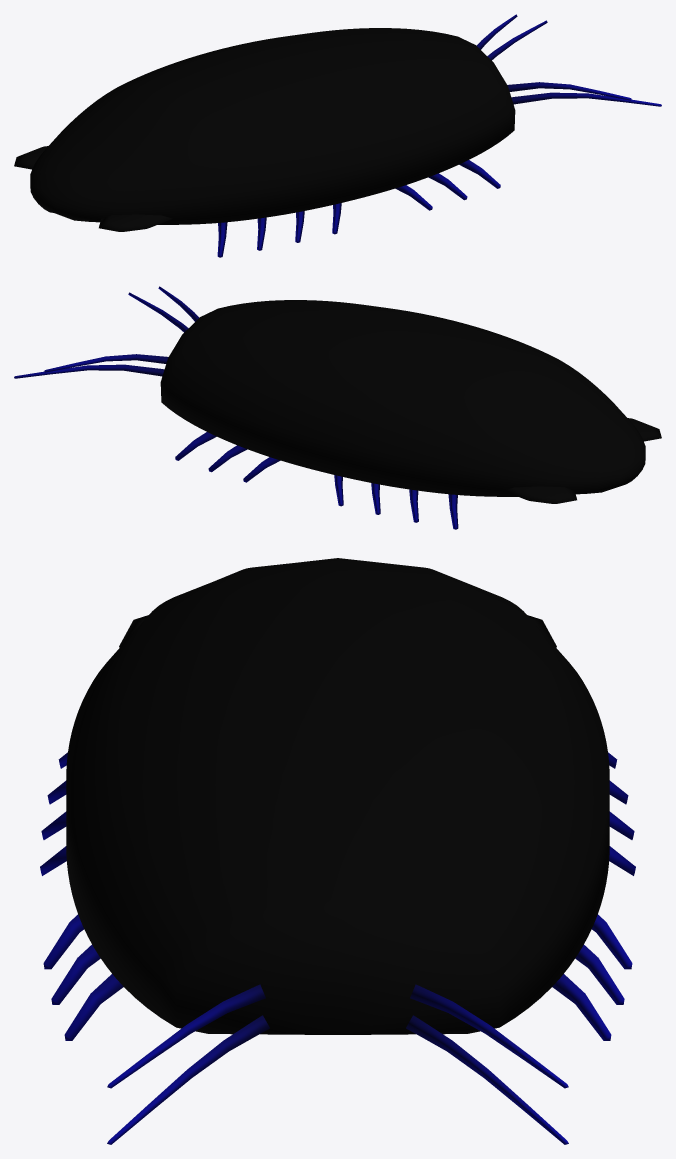
The model's file is micro_isopod.glb.
The picture shows the model from 3 angles, top to bottom: view 1: azimuth 30°, elevation 25°; view 2: azimuth 150°, elevation 25°; view 3: azimuth 270°, elevation 25°; orthographic projection. The views are drawn at different scales.
Visible parts, largest first — view 1: Body, Antennae, Legs; view 2: Body, Antennae, Legs; view 3: Body, Antennae, Legs.
Boxes of the visible parts, x1,y1,x2,y2 form: Body: [14, 28, 515, 231]; Antennae: [476, 14, 661, 106]; Legs: [217, 160, 500, 257]; Body: [160, 300, 661, 503]; Antennae: [14, 286, 199, 378]; Legs: [175, 432, 458, 529]; Body: [66, 558, 609, 1034]; Antennae: [107, 984, 568, 1144]; Legs: [40, 752, 635, 1040].
Bounding box in the file's own units: 1.31 × 0.2575 × 0.5987.
Materials: 2 (1 with a texture image).
